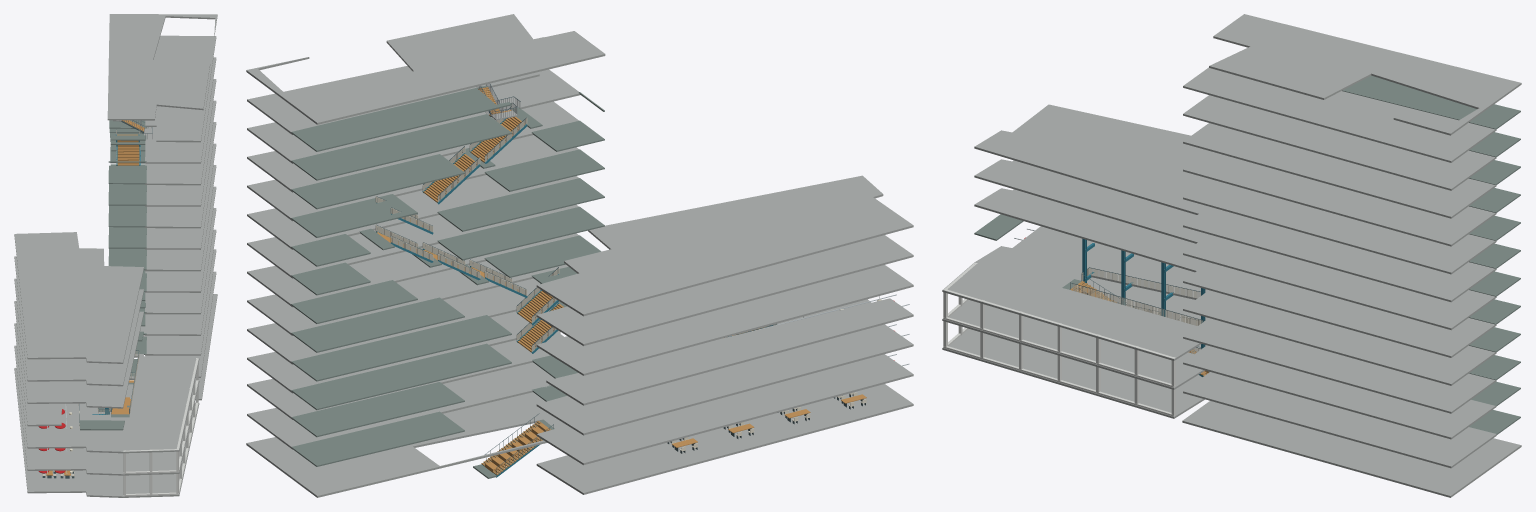
Rendered from cbg-interior-e9425220460c.glb.
3 renders of one model, left to right at view 1: azimuth 30°, elevation 25°; view 2: azimuth 150°, elevation 25°; view 3: azimuth 270°, elevation 25°, orthographic. The views are drawn at different scales.
Visible parts, largest first — view 1: CBG.001; view 2: CBG.001; view 3: CBG.001.
Part boxes in pixels (x1,y1,x2,y2): CBG.001: (14, 14, 217, 497); CBG.001: (246, 14, 913, 497); CBG.001: (942, 14, 1521, 497).
Size of the model in its own units: 67.42 by 56.69 by 75.61.
